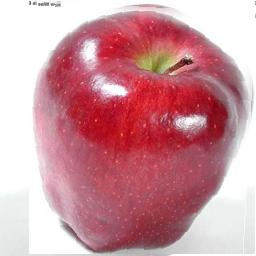Apple Fresh: (29, 0, 256, 254)
